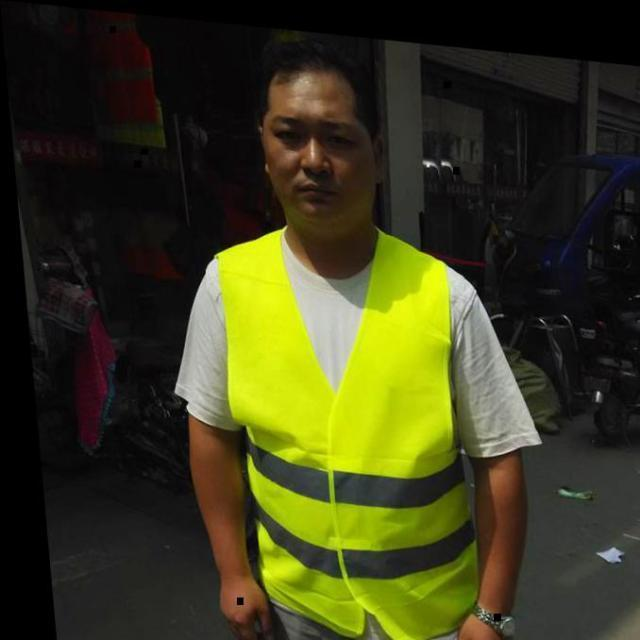safety_helmet: (183, 235, 471, 640)
